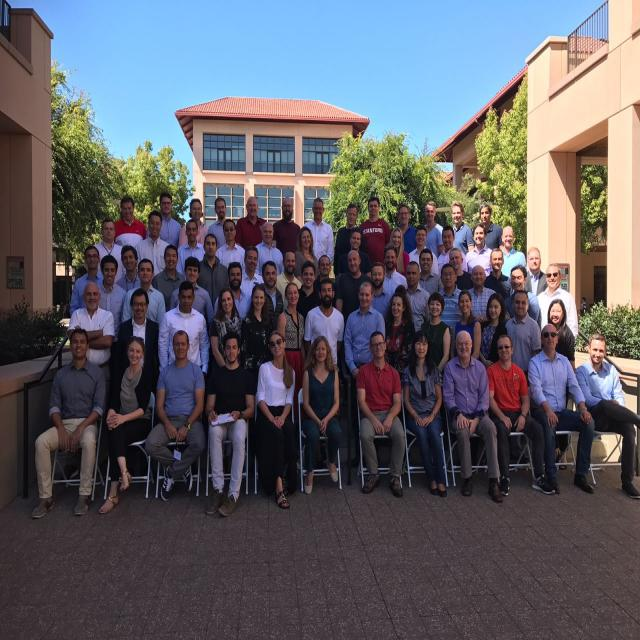body: (112, 194, 288, 640), (30, 327, 106, 518), (484, 333, 556, 496), (527, 322, 595, 494), (143, 329, 207, 501), (573, 333, 639, 499), (442, 330, 504, 503), (204, 330, 256, 517), (98, 335, 152, 514), (354, 330, 406, 498), (342, 281, 386, 468), (400, 329, 448, 498), (256, 330, 296, 510), (301, 334, 342, 495), (64, 280, 116, 395), (544, 298, 576, 470), (157, 280, 211, 381), (97, 253, 129, 408), (115, 287, 160, 393), (170, 255, 216, 356), (276, 280, 306, 424), (302, 277, 346, 371), (503, 290, 543, 387), (534, 262, 579, 343), (334, 249, 374, 338), (209, 287, 249, 373), (383, 288, 418, 381), (121, 258, 166, 328), (195, 233, 230, 315), (357, 196, 393, 274), (249, 260, 284, 336), (420, 291, 452, 374), (244, 284, 272, 377), (477, 291, 509, 372), (90, 218, 128, 285), (69, 245, 104, 317), (150, 244, 186, 314), (436, 262, 464, 351), (134, 209, 170, 278), (503, 263, 541, 327), (333, 203, 365, 279), (450, 289, 483, 362), (302, 196, 334, 264), (146, 192, 182, 252), (213, 261, 251, 317), (270, 196, 302, 262), (404, 260, 432, 333), (295, 259, 323, 328), (274, 249, 304, 312), (466, 264, 498, 323), (176, 218, 206, 280), (235, 196, 268, 251), (339, 228, 373, 280), (464, 222, 495, 278), (483, 248, 515, 302), (255, 221, 285, 278), (437, 225, 469, 277), (177, 197, 209, 249), (408, 224, 440, 275), (215, 218, 246, 269), (293, 225, 319, 285), (500, 225, 528, 280), (238, 245, 266, 298), (382, 244, 409, 297), (451, 200, 476, 257), (115, 244, 142, 294), (478, 202, 504, 252), (371, 261, 393, 317), (418, 247, 444, 294), (524, 246, 548, 296), (424, 200, 444, 260), (206, 197, 228, 250), (312, 254, 339, 297), (388, 226, 410, 278), (448, 247, 474, 290), (397, 203, 417, 256)
